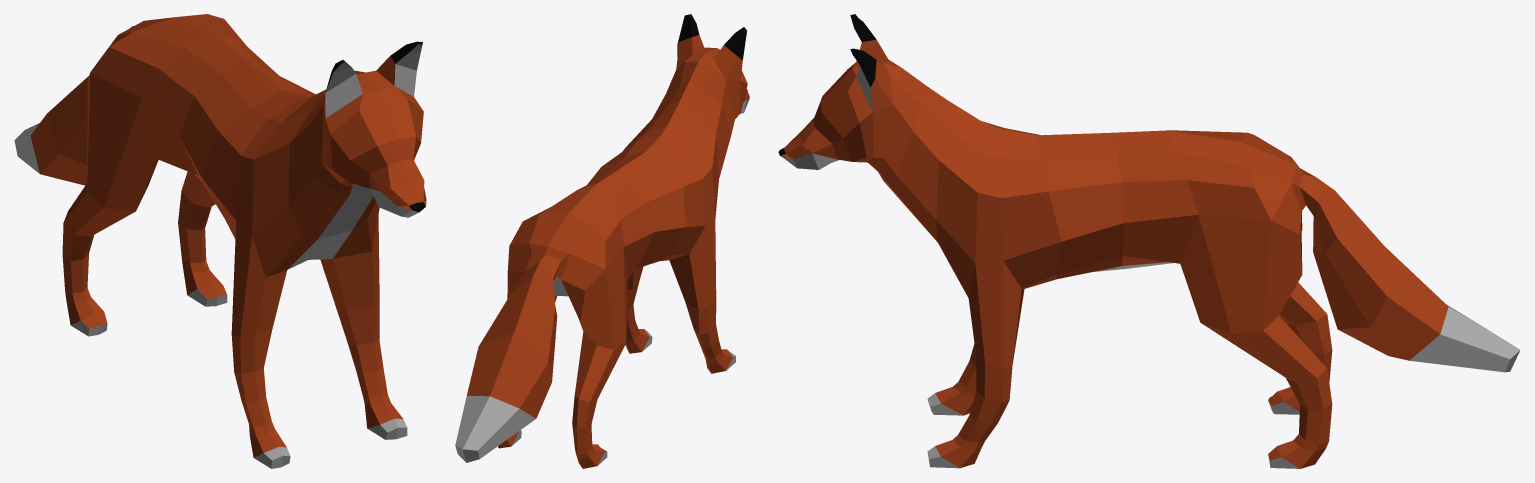
The model's file is fox.obj.
3 views of the same model, side by side, from view 1: azimuth 30°, elevation 25°; view 2: azimuth 150°, elevation 25°; view 3: azimuth 270°, elevation 25° (orthographic). The views are drawn at different scales.
Parts seen in each view (by area): view 1: Cylinder_Cylinder.001; view 2: Cylinder_Cylinder.001; view 3: Cylinder_Cylinder.001.
Boxes of the visible parts, <box> form: Cylinder_Cylinder.001: <box>14,14,426,468</box>; Cylinder_Cylinder.001: <box>455,14,749,468</box>; Cylinder_Cylinder.001: <box>778,14,1520,468</box>.
Size of the model in its own units: 1.88 by 5.21 by 8.63.
